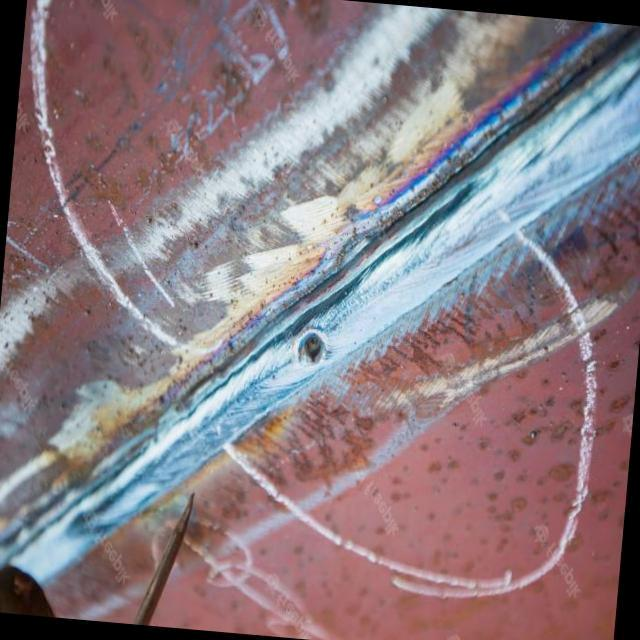defect: (294, 327, 329, 369)
